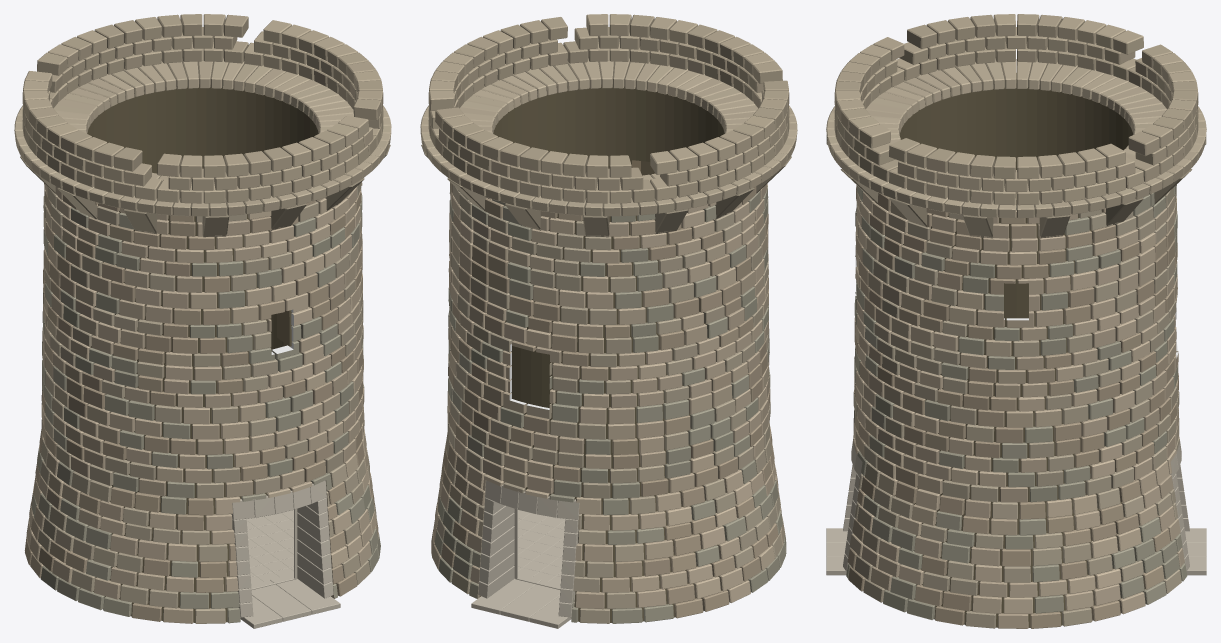
Rendered from Tour_V5_LOD0.fbx.
3 views of the same model, side by side, from view 1: azimuth 30°, elevation 25°; view 2: azimuth 150°, elevation 25°; view 3: azimuth 270°, elevation 25° (orthographic).
Visible parts, largest first — view 1: V5_Fut_Granit_Exterieur, V5_Couronnement_Consoles, V5_Chaux_Coeur_Murs, V5_Embrasures_Linteaux_Seuils, V5_Dalles_Patine; view 2: V5_Fut_Granit_Exterieur, V5_Couronnement_Consoles, V5_Chaux_Coeur_Murs, V5_Embrasures_Linteaux_Seuils, V5_Dalles_Patine; view 3: V5_Fut_Granit_Exterieur, V5_Couronnement_Consoles, V5_Chaux_Coeur_Murs, V5_Embrasures_Linteaux_Seuils.
Boxes of the visible parts, x1=… form: V5_Fut_Granit_Exterieur: x1=24, y1=182, x2=380, y2=623; V5_Couronnement_Consoles: x1=14, y1=14, x2=391, y2=237; V5_Chaux_Coeur_Murs: x1=75, y1=84, x2=321, y2=622; V5_Embrasures_Linteaux_Seuils: x1=231, y1=480, x2=340, y2=628; V5_Dalles_Patine: x1=246, y1=510, x2=293, y2=584; V5_Fut_Granit_Exterieur: x1=431, y1=182, x2=786, y2=623; V5_Couronnement_Consoles: x1=420, y1=14, x2=797, y2=237; V5_Chaux_Coeur_Murs: x1=479, y1=84, x2=740, y2=622; V5_Embrasures_Linteaux_Seuils: x1=471, y1=480, x2=579, y2=628; V5_Dalles_Patine: x1=518, y1=510, x2=565, y2=584; V5_Fut_Granit_Exterieur: x1=846, y1=184, x2=1187, y2=628; V5_Couronnement_Consoles: x1=826, y1=14, x2=1206, y2=238; V5_Chaux_Coeur_Murs: x1=885, y1=73, x2=1144, y2=627; V5_Embrasures_Linteaux_Seuils: x1=826, y1=439, x2=1206, y2=575.
Bounding box in the file's own units: 900 × 1210 × 900.
